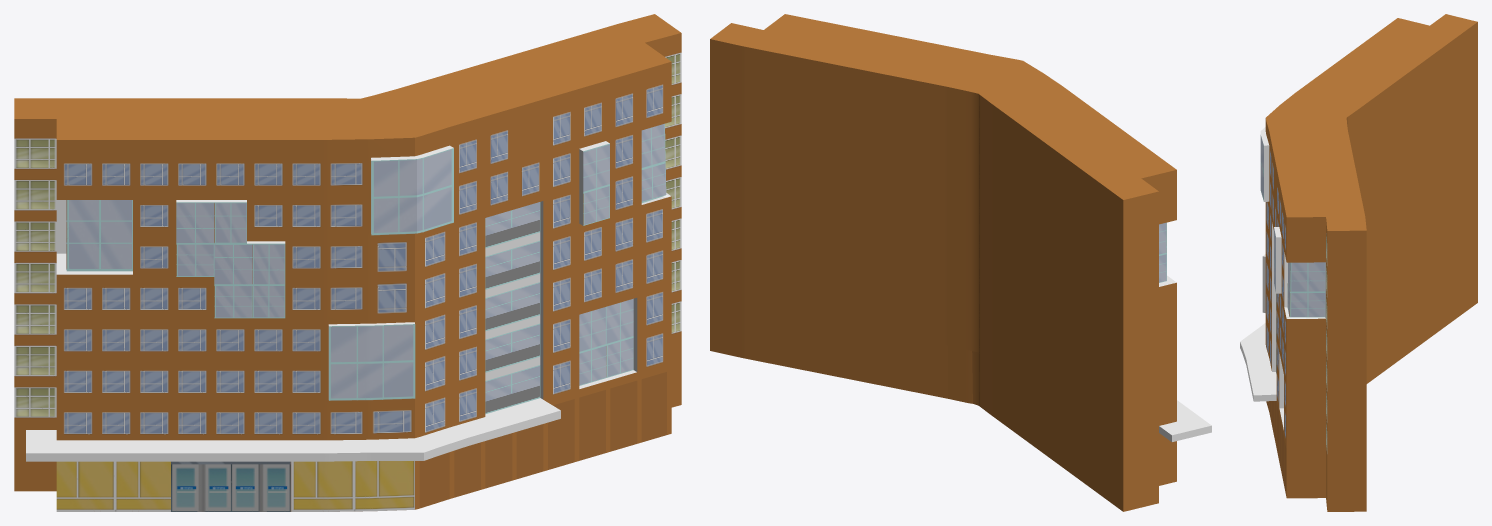
The model's file is building_international.fbx.
3 views of the same model, side by side, from view 1: azimuth 30°, elevation 25°; view 2: azimuth 150°, elevation 25°; view 3: azimuth 270°, elevation 25° (orthographic). The views are drawn at different scales.
Parts seen in each view (by area): view 1: building_international; view 2: building_international; view 3: building_international.
Boxes of the visible parts, x1,y1,x2,y2 form: building_international: [14, 14, 681, 511]; building_international: [710, 14, 1211, 511]; building_international: [1240, 14, 1477, 511].
Bounding box in the file's own units: 4.82 × 2.79 × 2.14.
Materials: 1 (1 with a texture image).
